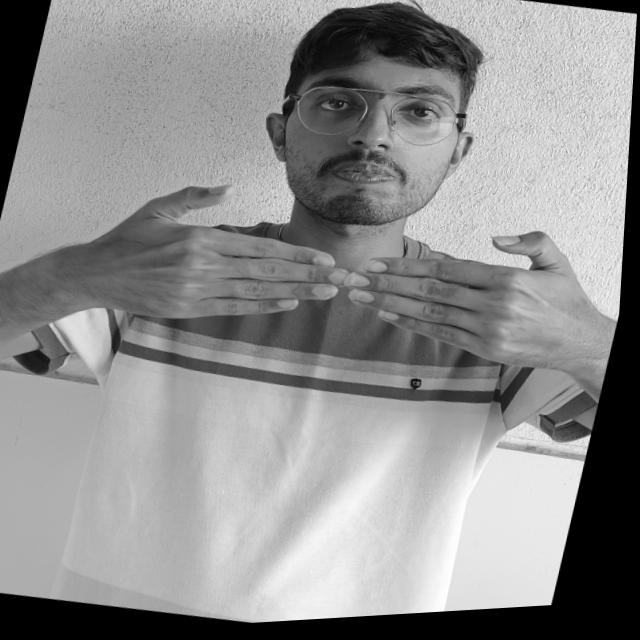Night: (56, 127, 633, 432)
